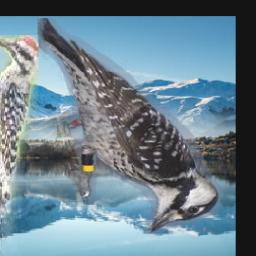Woodpecker: (38, 18, 220, 234), (0, 36, 39, 256)
